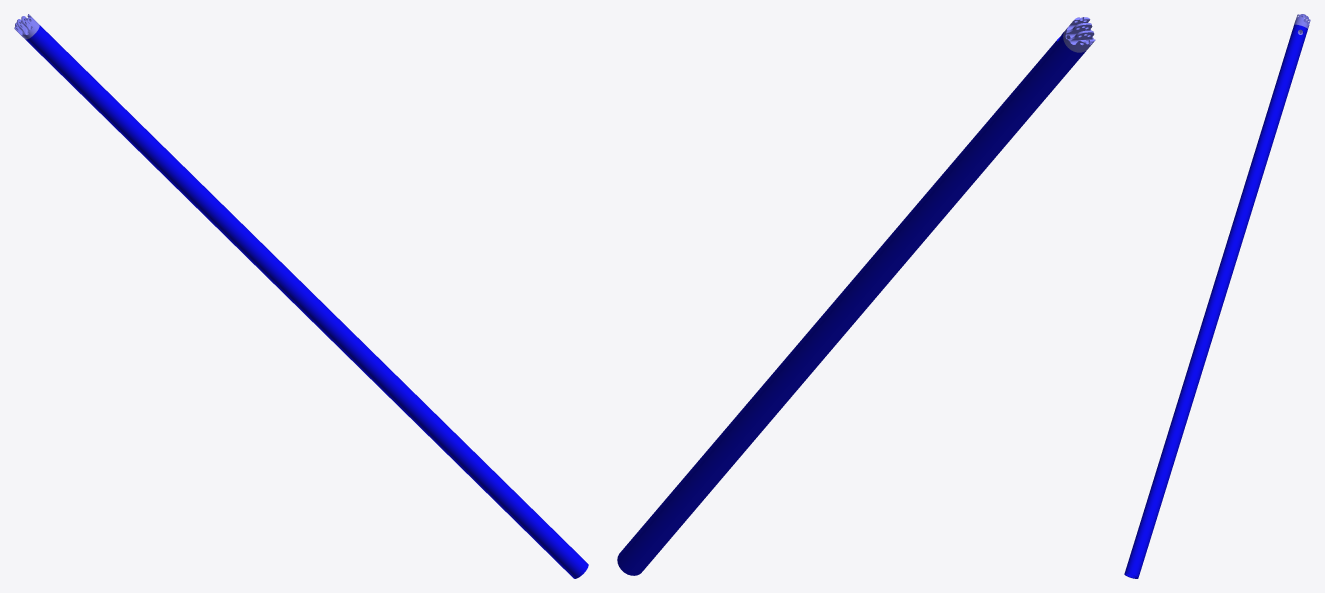
Rendered from instrument_shaft.dae.
The picture shows the model from 3 angles, left to right: view 1: azimuth 30°, elevation 25°; view 2: azimuth 150°, elevation 25°; view 3: azimuth 270°, elevation 25°; orthographic projection. The views are drawn at different scales.
Visible parts, largest first — view 1: Actor1; view 2: Actor1, Actor0; view 3: Actor1.
Boxes of the visible parts, box(x1,y1,x2,y2) form: Actor1: box(25, 25, 588, 578); Actor1: box(617, 31, 1085, 575); Actor0: box(1063, 17, 1095, 52); Actor1: box(1124, 24, 1307, 578).
Size of the model in its own units: 0.2531 by 0.3102 by 0.1262.
